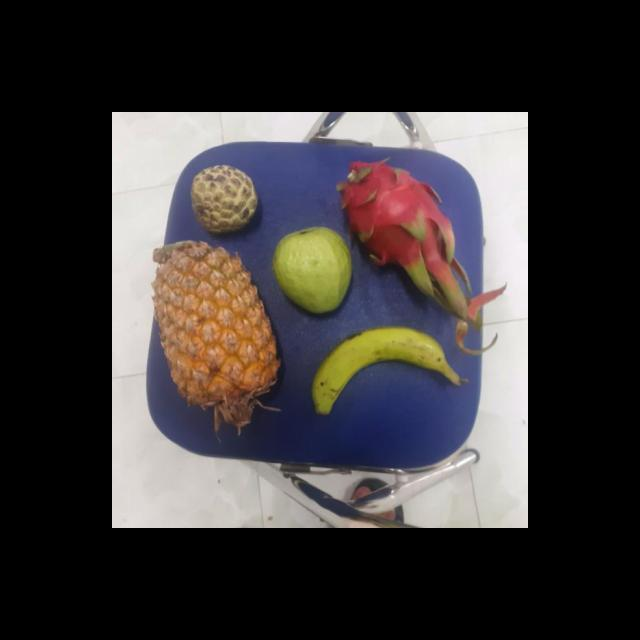Sakya fruit: (190, 166, 262, 233)
banana: (314, 326, 462, 409)
guava: (272, 226, 356, 314)
pineapple: (156, 242, 282, 405)
pitaya: (341, 160, 456, 272)
